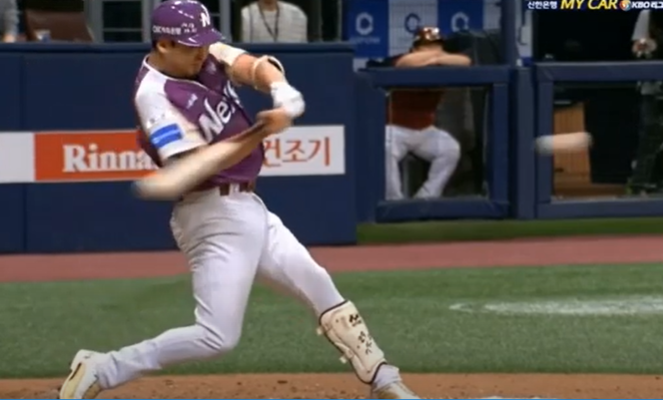ball: (539, 132, 590, 153)
